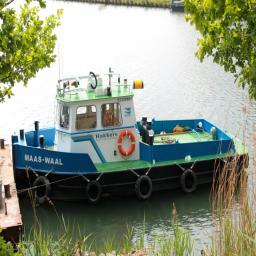tugboat: (10, 67, 252, 212)
